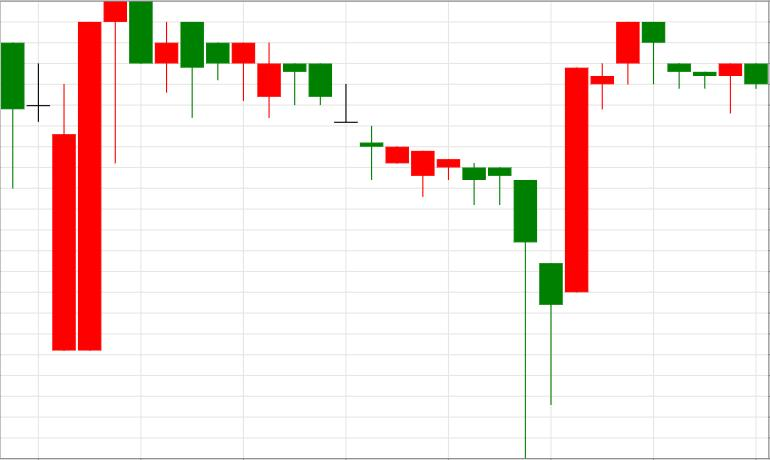hammer_rise: (360, 126, 562, 459), (359, 126, 537, 459)
